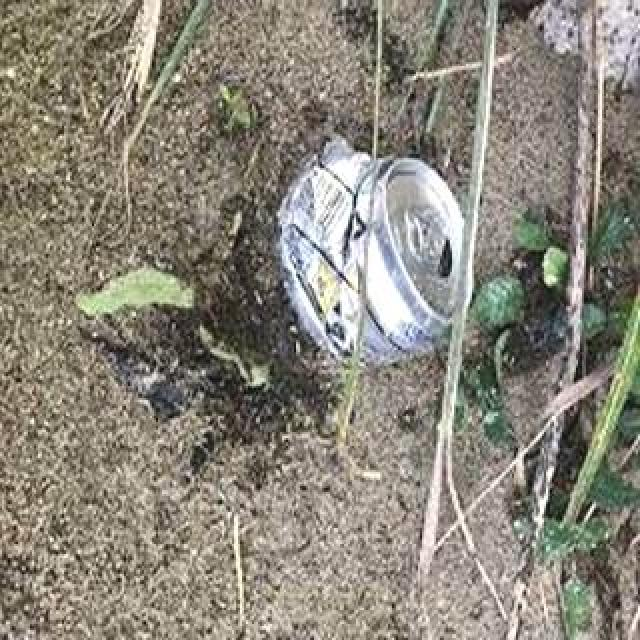Can: (282, 131, 476, 371)
